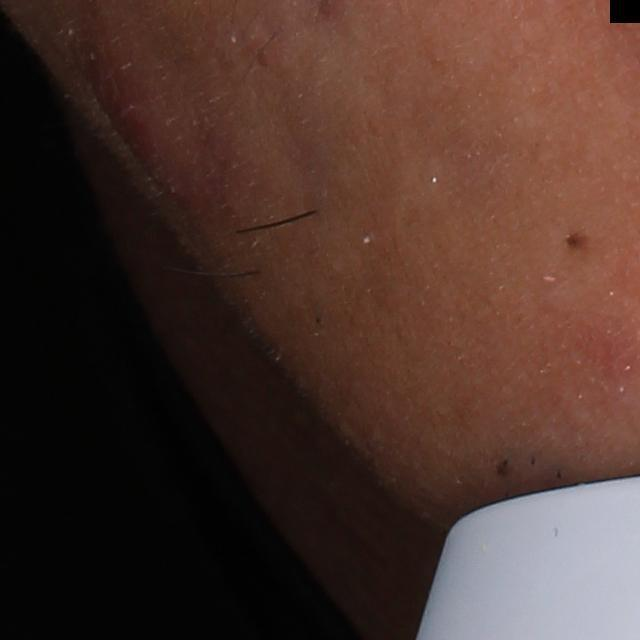nevus: (559, 225, 592, 252), (493, 453, 515, 478)
